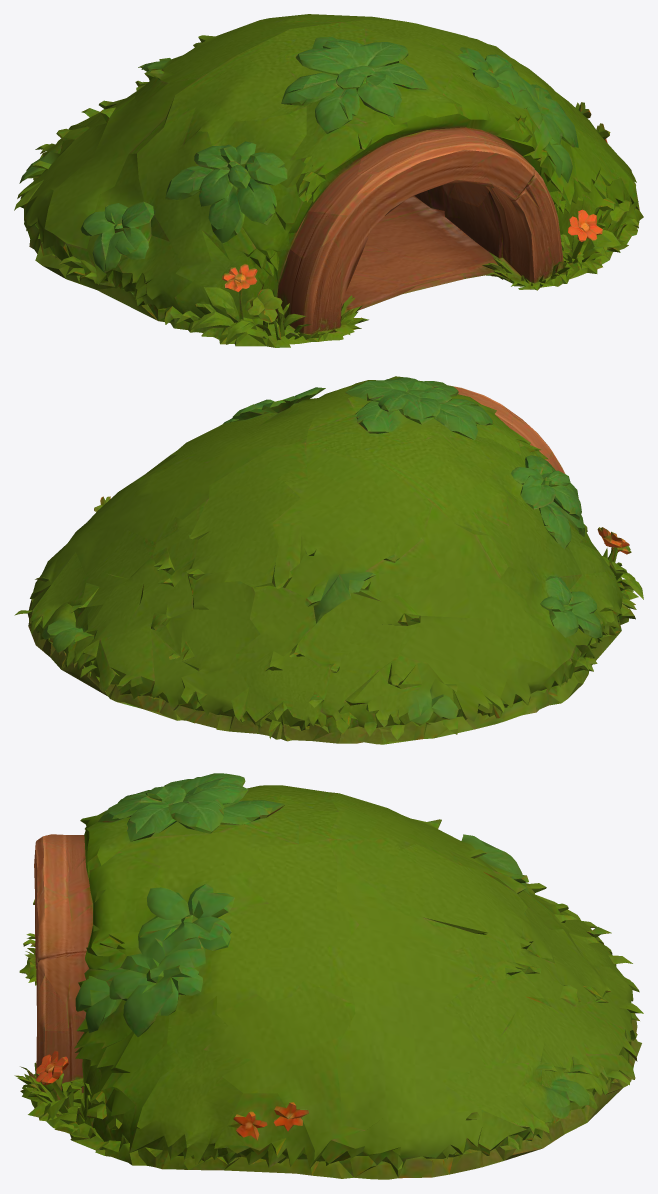
Rendered from mossy-burrow.glb.
3 renders of one model, top to bottom at view 1: azimuth 30°, elevation 25°; view 2: azimuth 150°, elevation 25°; view 3: azimuth 270°, elevation 25°, orthographic. The views are drawn at different scales.
Parts seen in each view (by area): view 1: output_unwrapped; view 2: output_unwrapped; view 3: output_unwrapped.
Boxes of the visible parts, left/top/right/bottom form: output_unwrapped: left=14, top=14, right=643, bottom=347; output_unwrapped: left=14, top=376, right=643, bottom=744; output_unwrapped: left=14, top=773, right=643, bottom=1179.
Bounding box in the file's own units: 1.9 × 0.7158 × 1.74.
Materials: 1 (1 with a texture image).
